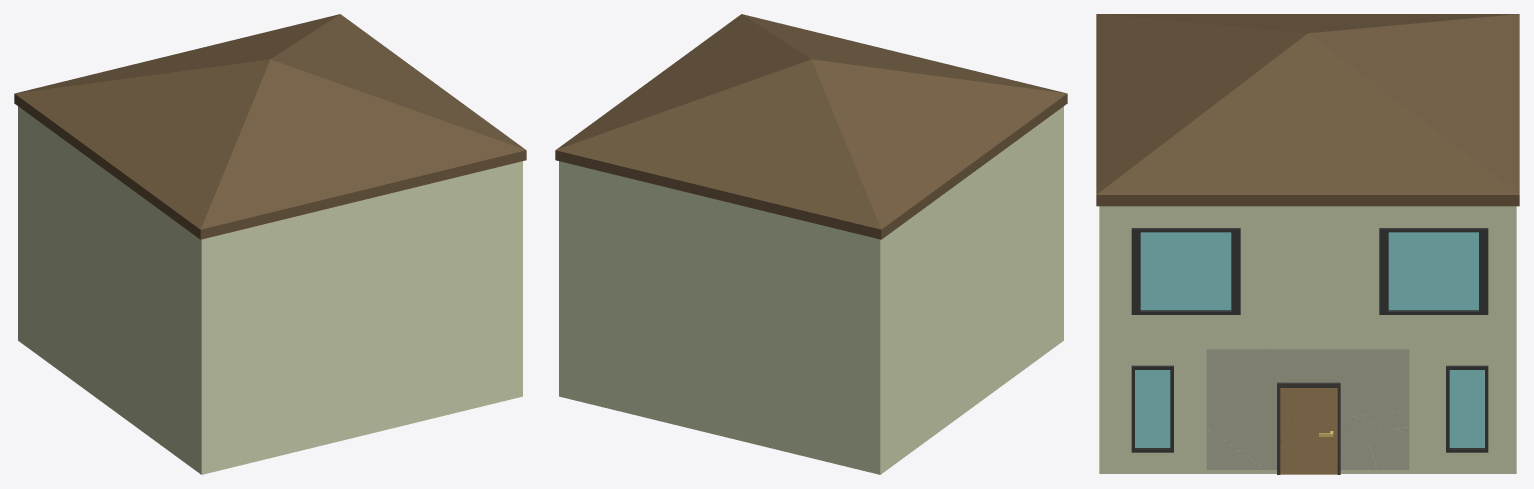
File: house (can be broken).fbx
3 views of the same model, side by side, from view 1: azimuth 30°, elevation 25°; view 2: azimuth 150°, elevation 25°; view 3: azimuth 270°, elevation 25° (orthographic). The views are drawn at different scales.
Visible parts, largest first — view 1: Cube.001; view 2: Cube.001; view 3: Cube.001, Cube.001_cell.003, Cube.001_cell.005, Cube.006_cell.001, Cube.006_cell.002, Cube.001_cell.001, Cube.001_cell.002_cell.004, Cube.001_cell.002_cell.006, Cube.001_cell, Cube.006_cell, Cube.001_cell.002_cell.002.
Part boxes in pixels (box(x1,y1,x2,y2)): Cube.001: box(14, 14, 526, 474); Cube.001: box(555, 14, 1067, 474); Cube.001: box(1096, 14, 1519, 473); Cube.001_cell.003: box(1268, 349, 1409, 417); Cube.001_cell.005: box(1206, 364, 1280, 469); Cube.006_cell.001: box(1277, 425, 1340, 474); Cube.006_cell.002: box(1287, 382, 1340, 436); Cube.001_cell.001: box(1206, 349, 1269, 396); Cube.001_cell.002_cell.004: box(1361, 421, 1409, 469); Cube.001_cell.002_cell.006: box(1340, 416, 1377, 469); Cube.001_cell: box(1206, 429, 1266, 469); Cube.006_cell: box(1277, 382, 1303, 446); Cube.001_cell.002_cell.002: box(1354, 411, 1409, 429).
Bounding box in the file's own units: 2039 × 1829 × 1994.
